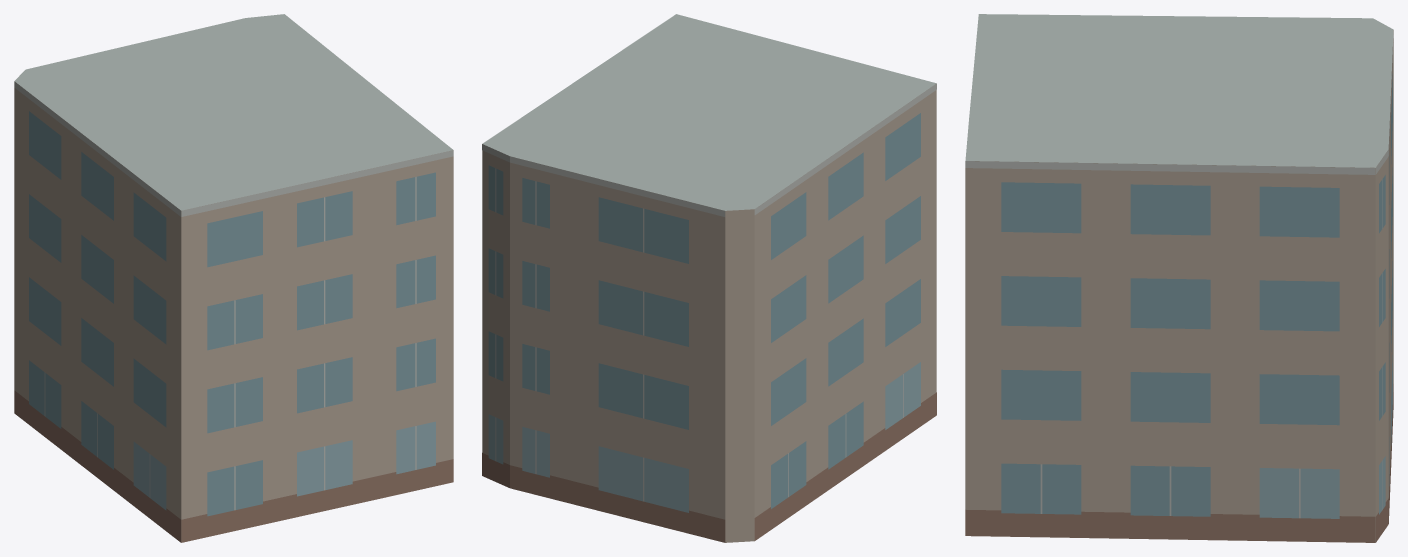
File: survey-upis-32661786.glb
The picture shows the model from 3 angles, left to right: view 1: azimuth 30°, elevation 25°; view 2: azimuth 150°, elevation 25°; view 3: azimuth 270°, elevation 25°; orthographic projection. The views are drawn at different scales.
Visible parts, largest first — view 1: survey-upis-32661786.tmp; view 2: survey-upis-32661786.tmp; view 3: survey-upis-32661786.tmp.
Part boxes in pixels (bbox=[...]): survey-upis-32661786.tmp: bbox=[14, 14, 453, 542]; survey-upis-32661786.tmp: bbox=[482, 14, 936, 542]; survey-upis-32661786.tmp: bbox=[965, 14, 1393, 542].
Size of the model in its own units: 11.27 by 12.8 by 13.25.
